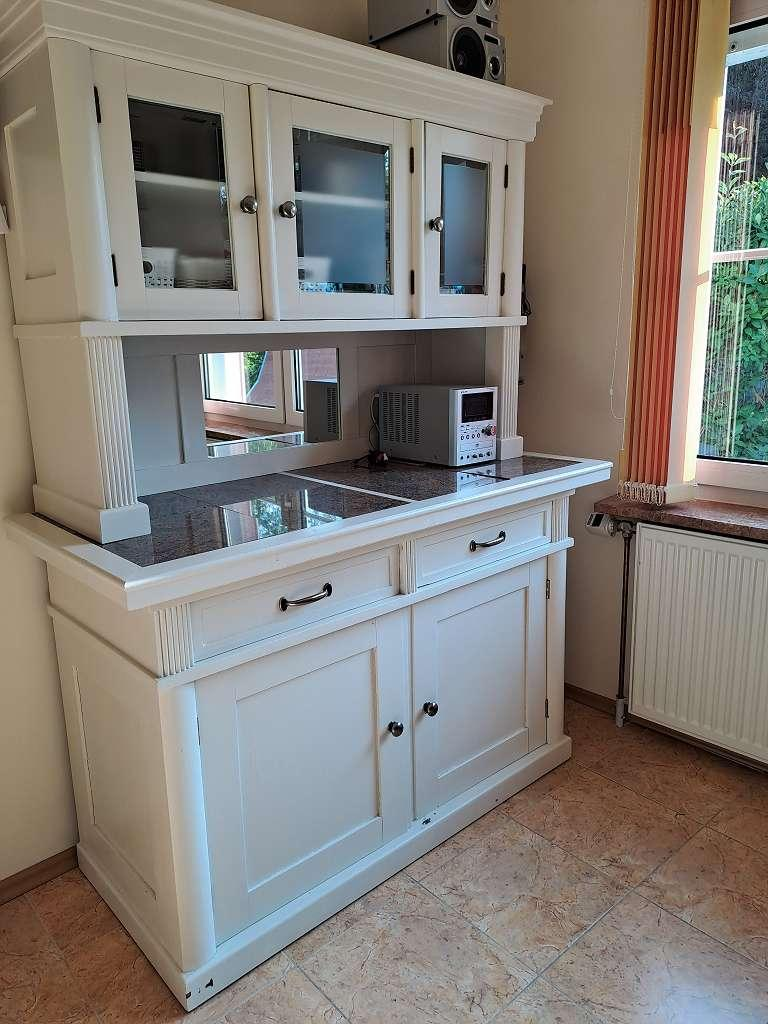cabinet_door: (209, 636, 408, 876), (111, 78, 255, 323), (269, 117, 410, 315), (415, 573, 545, 784), (199, 564, 393, 632), (423, 142, 502, 308), (417, 520, 547, 571)
handle: (275, 578, 334, 615), (466, 529, 506, 559), (272, 193, 307, 227), (238, 189, 261, 222), (425, 210, 452, 238), (382, 715, 407, 745), (418, 695, 443, 722)
